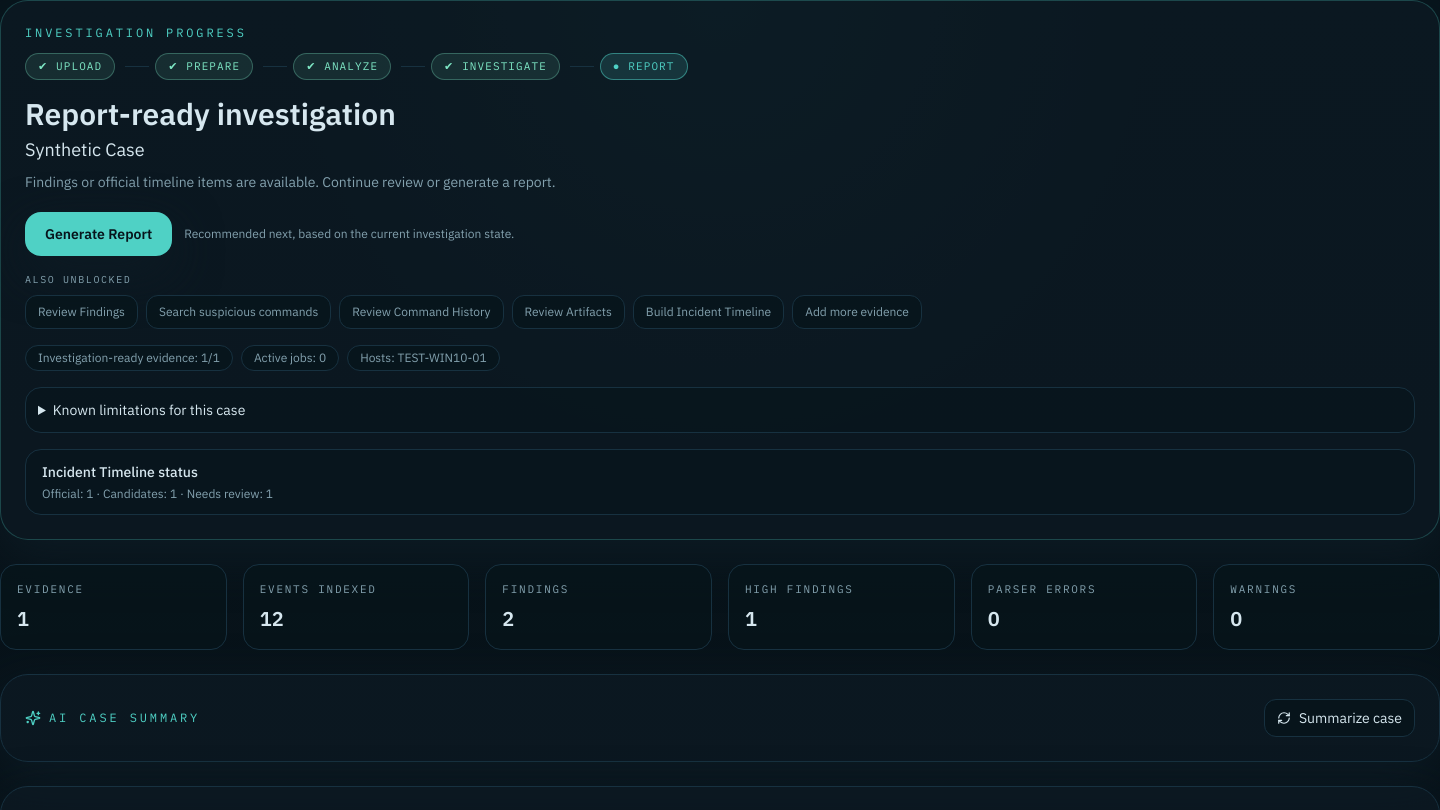
Test: CaseOverviewPage › AI case summary › shows the assistant's error instead of a silent failure
Click the button "Summarize case" at (1340, 718), box [1264,699,1415,737]
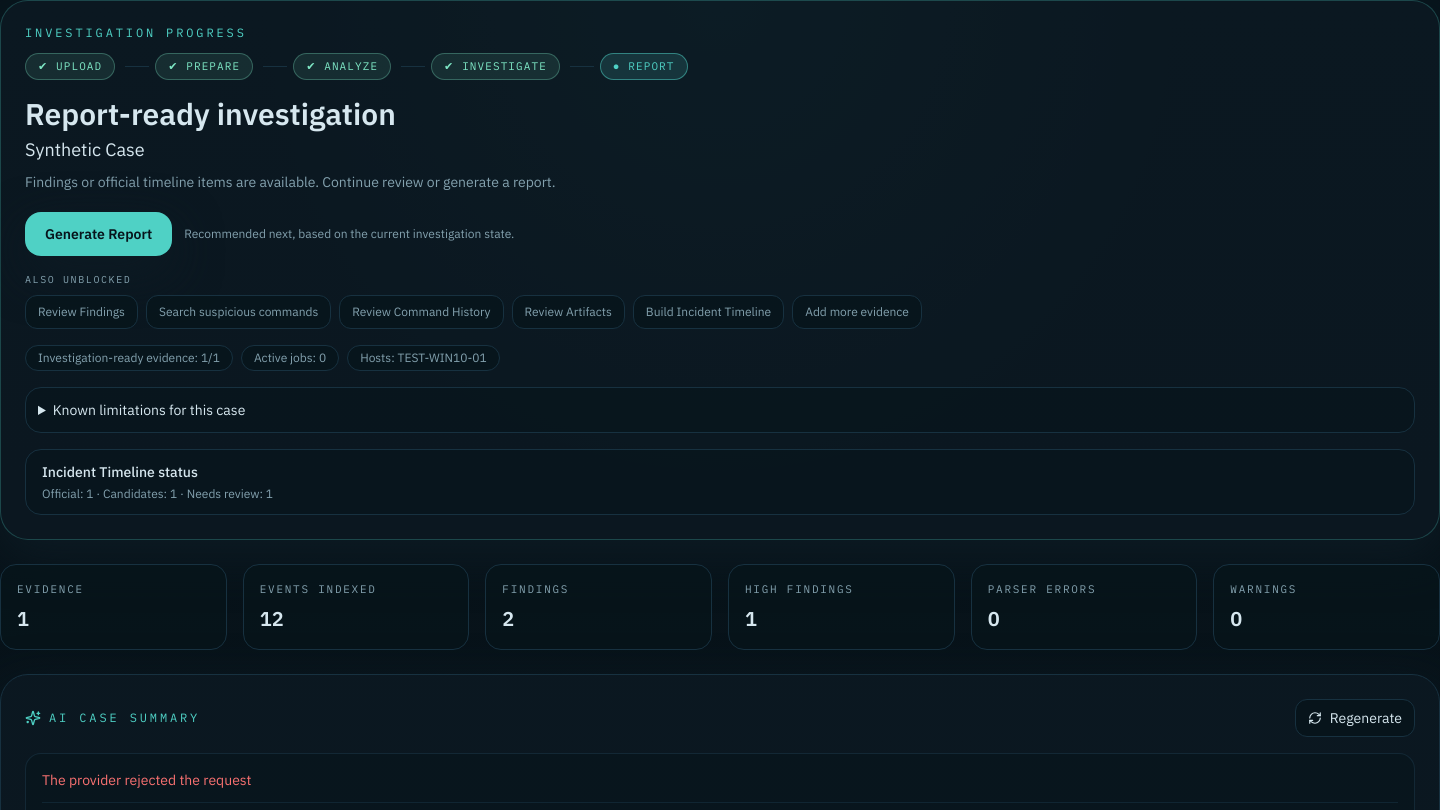
Expected: the text "The provider rejected the request" is shown, [42,771,252,789]
